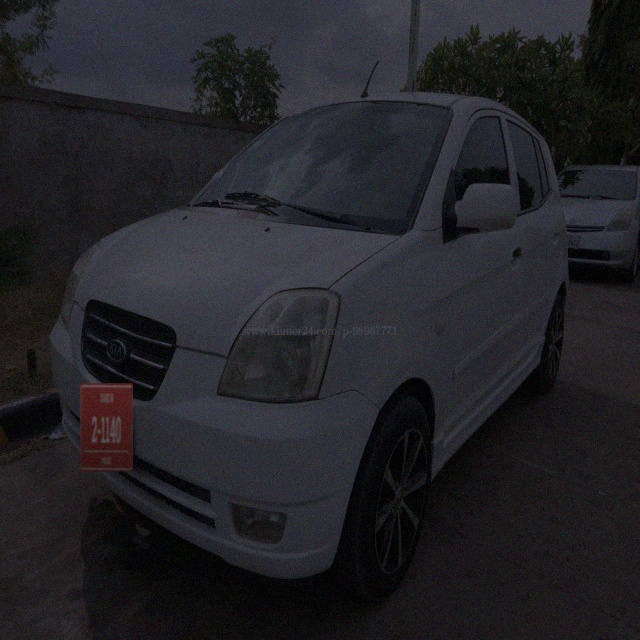Plate Number: (80, 383, 134, 472)
